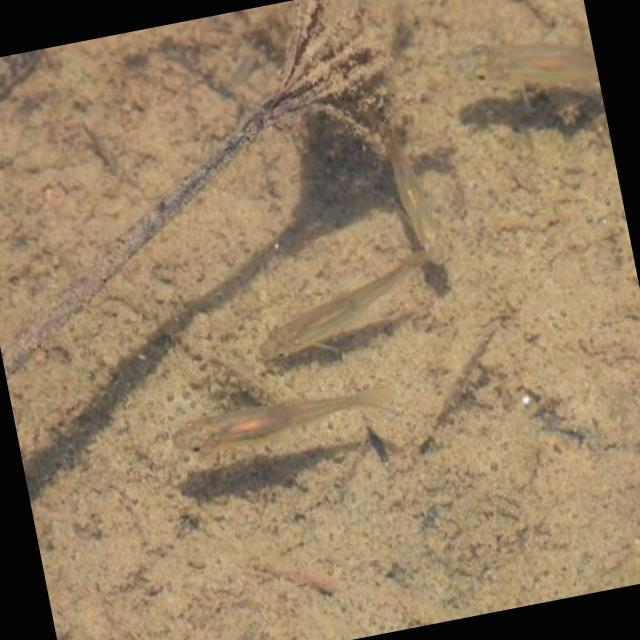Cakil Baligi: (240, 235, 447, 370), (160, 366, 422, 464), (366, 97, 464, 284)
